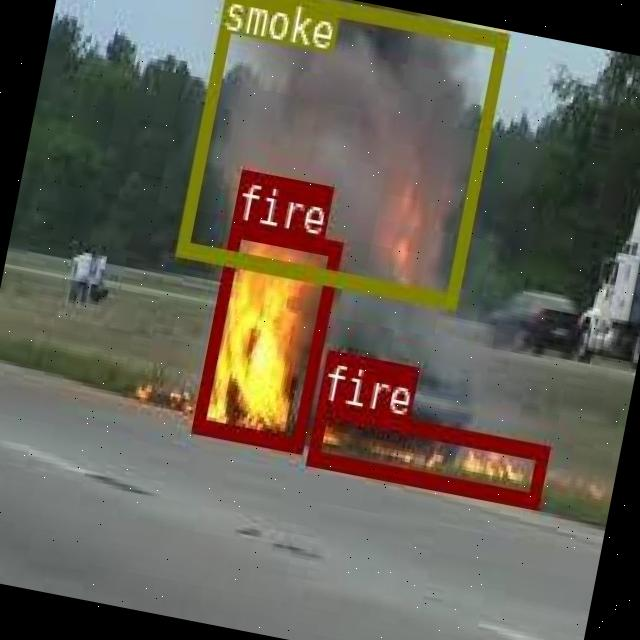fire: (191, 218, 342, 448), (306, 399, 548, 506)
smoke: (176, 0, 507, 305)
